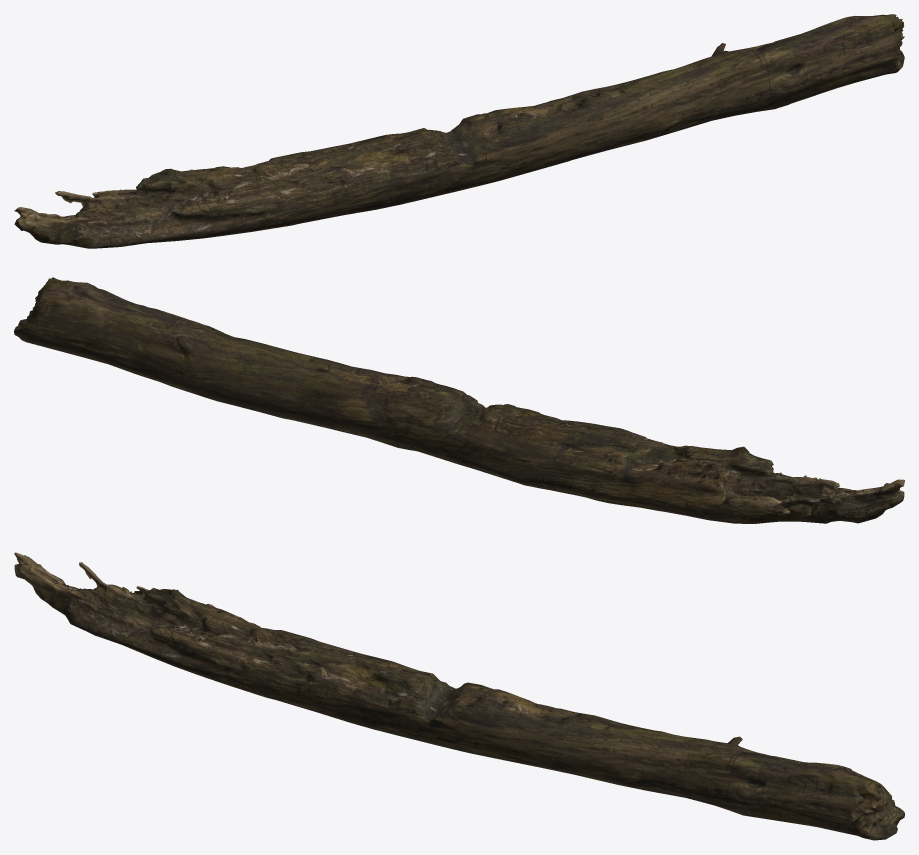
File: log.glb
3 views of the same model, one above another, from view 1: azimuth 30°, elevation 25°; view 2: azimuth 150°, elevation 25°; view 3: azimuth 330°, elevation 25° (orthographic).
Visible parts, largest first — view 1: dead_tree_trunk; view 2: dead_tree_trunk; view 3: dead_tree_trunk.
Boxes of the visible parts, left/top/right/bottom form: dead_tree_trunk: left=14, top=14, right=904, bottom=248; dead_tree_trunk: left=14, top=277, right=904, bottom=523; dead_tree_trunk: left=14, top=552, right=904, bottom=840.
Bounding box in the file's own units: 3.05 × 0.2899 × 0.2774.
Materials: 1 (1 with a texture image).
